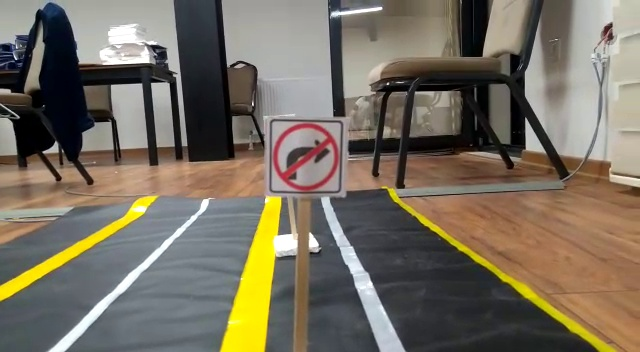saga_donulmez: (267, 114, 345, 194)
